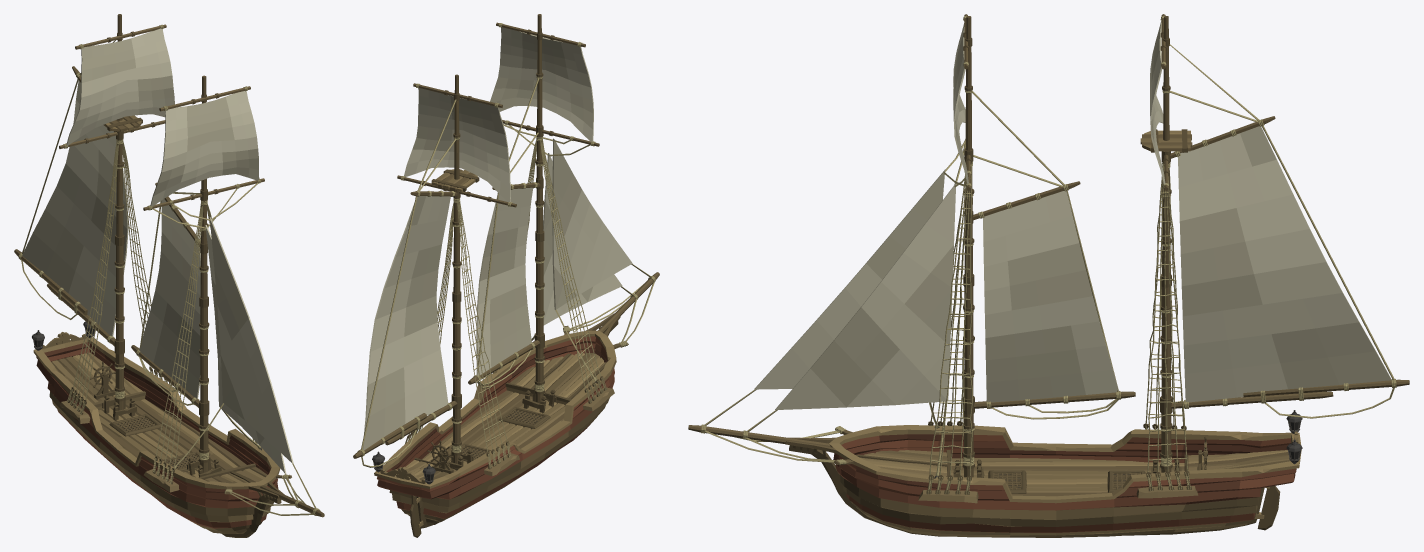
The model's file is MediumShip_2.fbx.
3 views of the same model, side by side, from view 1: azimuth 30°, elevation 25°; view 2: azimuth 150°, elevation 25°; view 3: azimuth 270°, elevation 25° (orthographic). The views are drawn at different scales.
Visible parts, largest first — view 1: MediumShip_2, MediumShip_2_Sails3, MediumShip_2_Sails2, MediumShip_2_Sails1, MediumShip_2_Mast2, MediumShip_2_Mast1; view 2: MediumShip_2, MediumShip_2_Sails3, MediumShip_2_Sails2, MediumShip_2_Sails1, MediumShip_2_Mast2, MediumShip_2_Mast1; view 3: MediumShip_2, MediumShip_2_Sails3, MediumShip_2_Sails1, MediumShip_2_Sails2, MediumShip_2_Mast2, MediumShip_2_Mast1.
Boxes of the visible parts, x1,y1,x2,y2 form: MediumShip_2: (32,140,324,537); MediumShip_2_Sails3: (22,28,174,336); MediumShip_2_Sails2: (139,91,259,398); MediumShip_2_Sails1: (205,217,293,473); MediumShip_2_Mast2: (14,14,166,416); MediumShip_2_Mast1: (131,75,264,472); MediumShip_2: (372,139,659,537); MediumShip_2_Sails3: (362,88,510,450); MediumShip_2_Sails2: (476,27,593,375); MediumShip_2_Sails1: (543,138,632,325); MediumShip_2_Mast2: (353,74,516,467); MediumShip_2_Mast1: (468,14,599,409); MediumShip_2: (688,163,1302,537); MediumShip_2_Sails3: (1150,20,1391,402); MediumShip_2_Sails1: (754,169,956,409); MediumShip_2_Sails2: (953,23,1118,402); MediumShip_2_Mast2: (1140,14,1409,472); MediumShip_2_Mast1: (943,14,1135,477).
Bounding box in the file's own units: 718 × 2542 × 3190.
